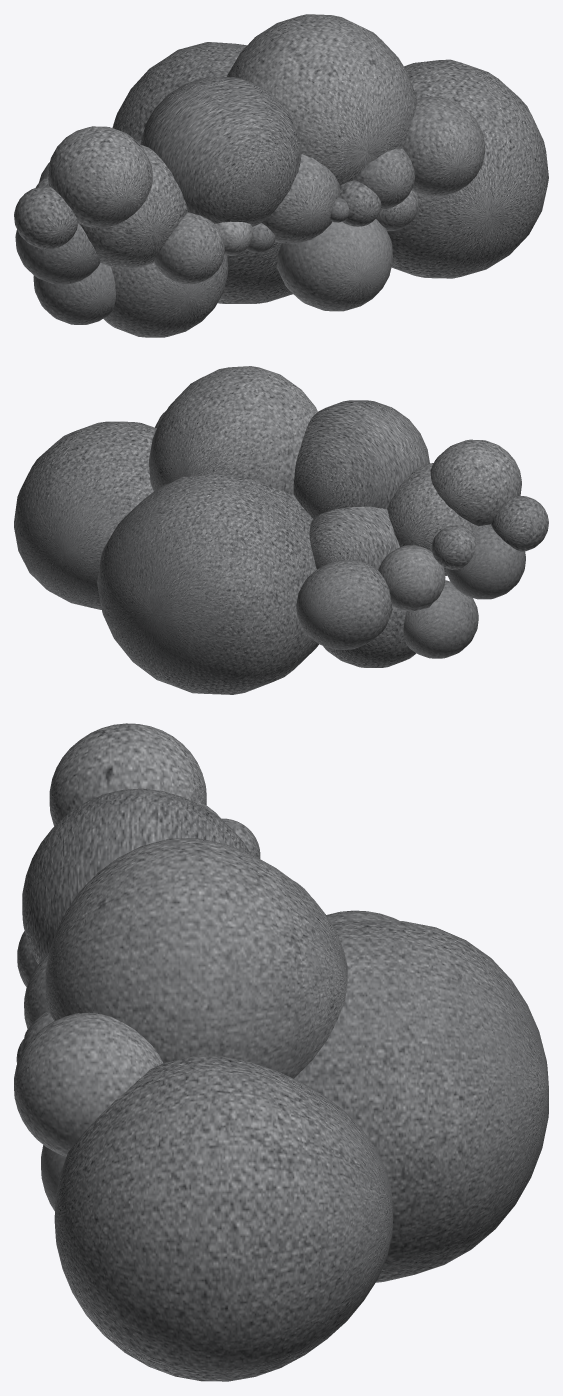
File: Storm_Cloud_static.glb
The picture shows the model from 3 angles, top to bottom: view 1: azimuth 30°, elevation 25°; view 2: azimuth 150°, elevation 25°; view 3: azimuth 270°, elevation 25°; orthographic projection. The views are drawn at different scales.
Parts seen in each view (by area): view 1: Lightening_Bolt; view 2: Lightening_Bolt; view 3: Lightening_Bolt.
Boxes of the visible parts, box(x1,y1,x2,y2) form: Lightening_Bolt: box(14, 14, 548, 337); Lightening_Bolt: box(14, 366, 548, 694); Lightening_Bolt: box(14, 723, 548, 1381).
Bounding box in the file's own units: 0.1403 × 0.0734 × 0.0809.
Materials: 1 (1 with a texture image).
